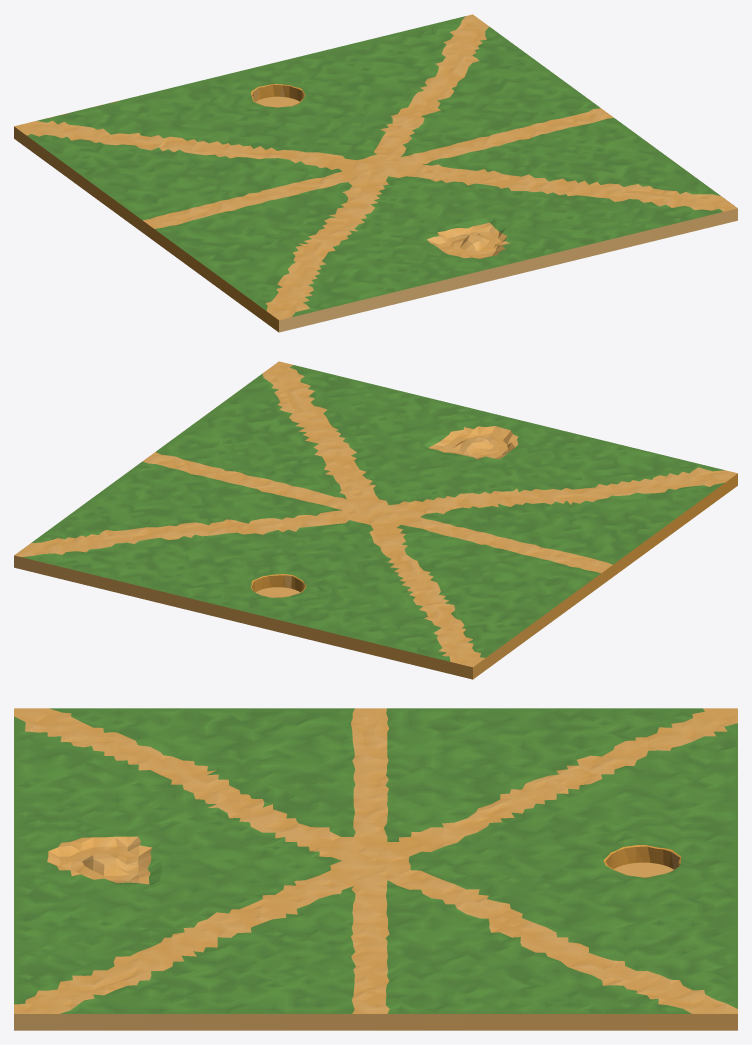
The model's file is Map.fbx.
3 renders of one model, top to bottom at view 1: azimuth 30°, elevation 25°; view 2: azimuth 150°, elevation 25°; view 3: azimuth 270°, elevation 25°, orthographic. The views are drawn at different scales.
Parts seen in each view (by area): view 1: NewGround; view 2: NewGround; view 3: NewGround.
Boxes of the visible parts, x1=… form: NewGround: x1=14, y1=14, x2=737, y2=332; NewGround: x1=14, y1=361, x2=737, y2=679; NewGround: x1=14, y1=708, x2=737, y2=1030.
Size of the model in its own units: 20000 by 585 by 20006.
